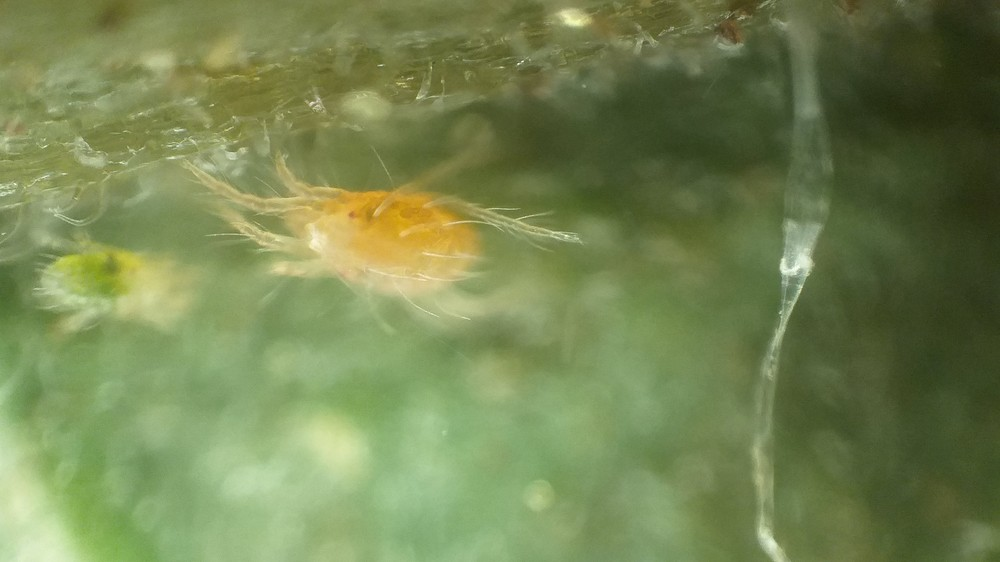Aracnido Rojo: (188, 126, 601, 347), (20, 217, 212, 337)
